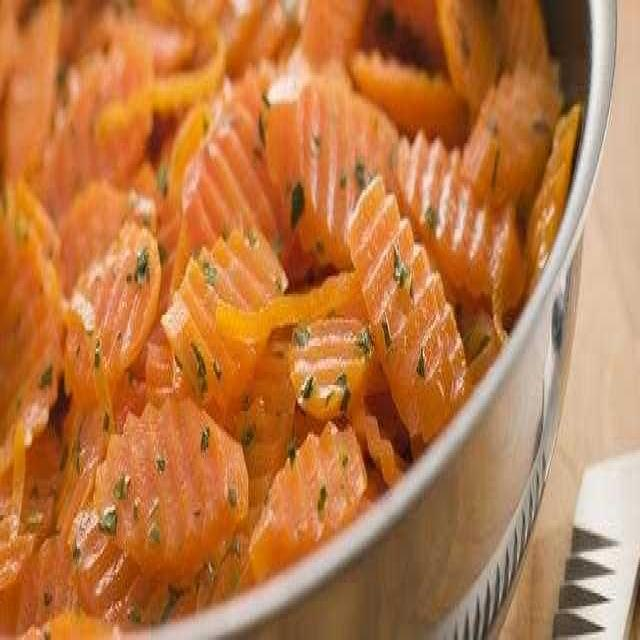carrots: (192, 93, 447, 403)
